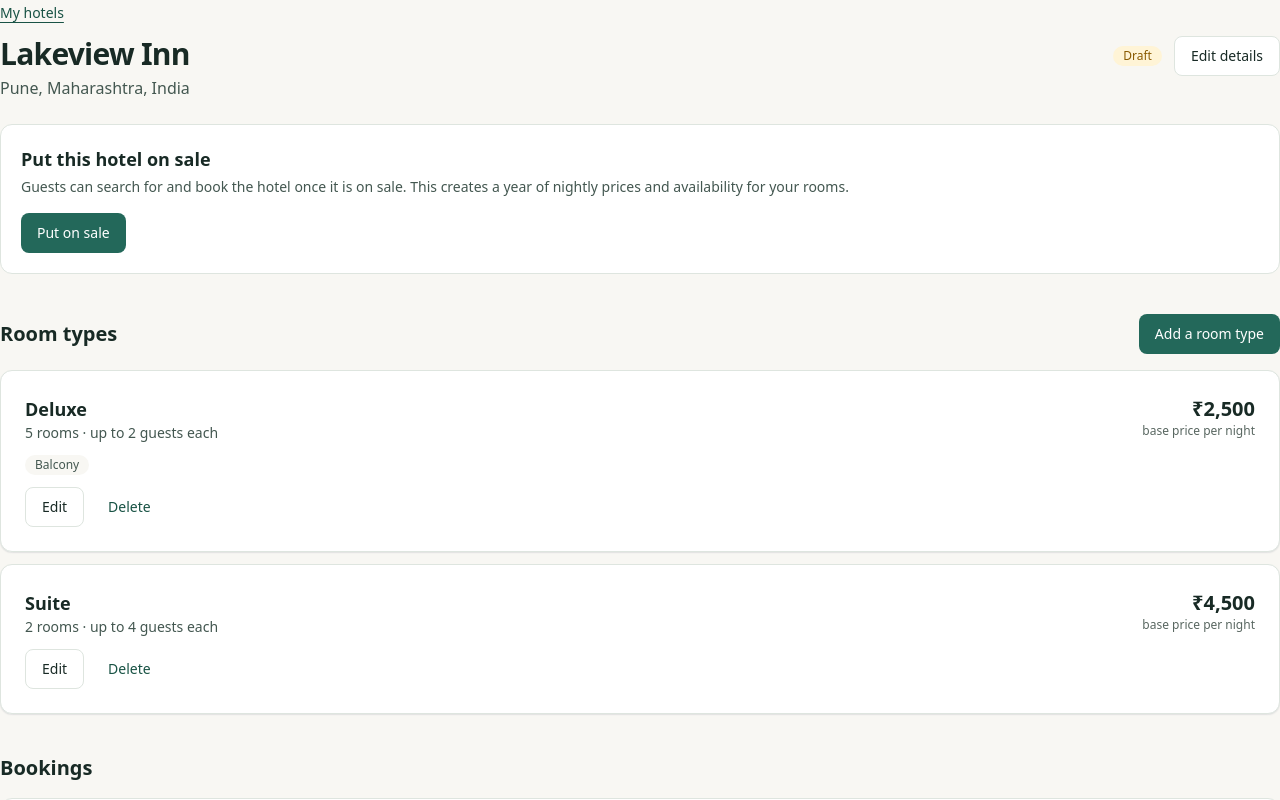
Scenario: a draft hotel › is put on sale, and then shows as on sale
The width and height of the screenshot is (1280, 800).
Click the button "Put on sale" at [73, 233], box 21,213 -> 126,253
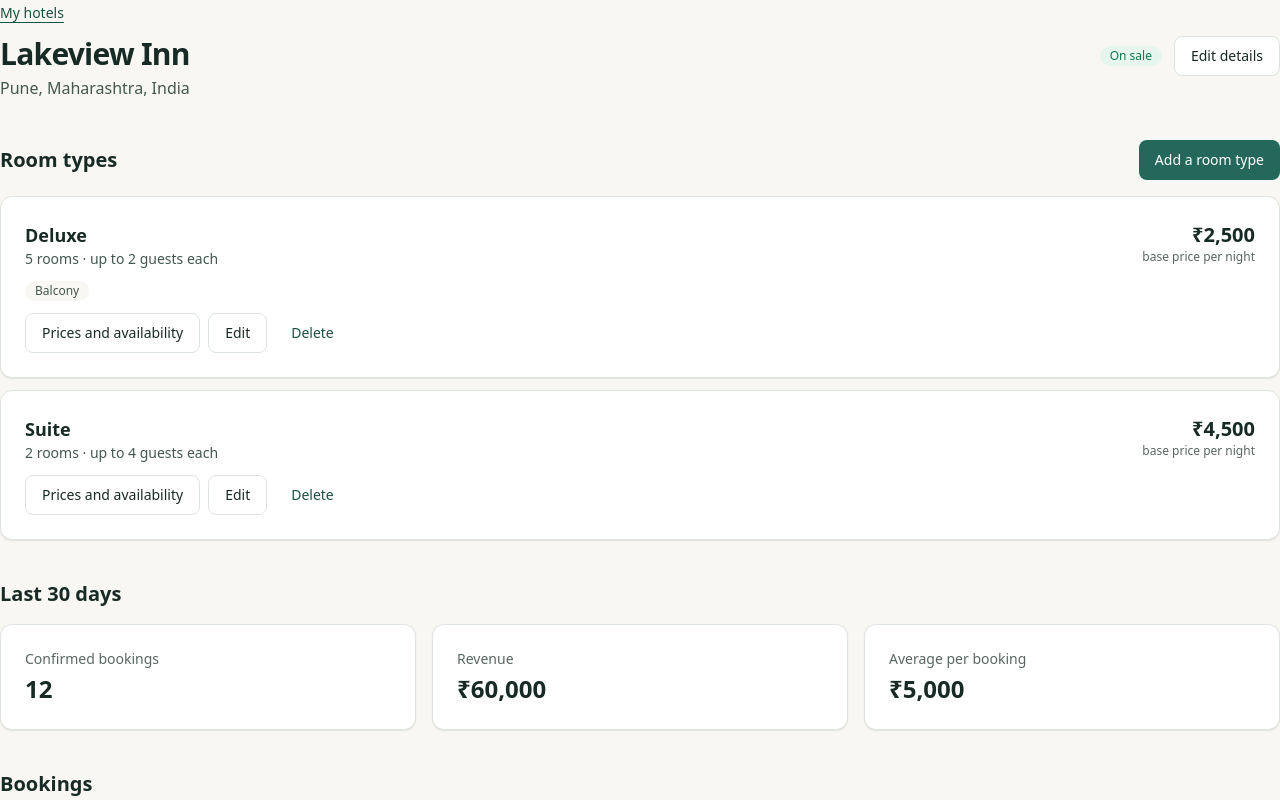
Expected: the text "On sale" is shown, 1100,46 -> 1162,66
Expected: the heading "Put this hotel on sale" is gone
